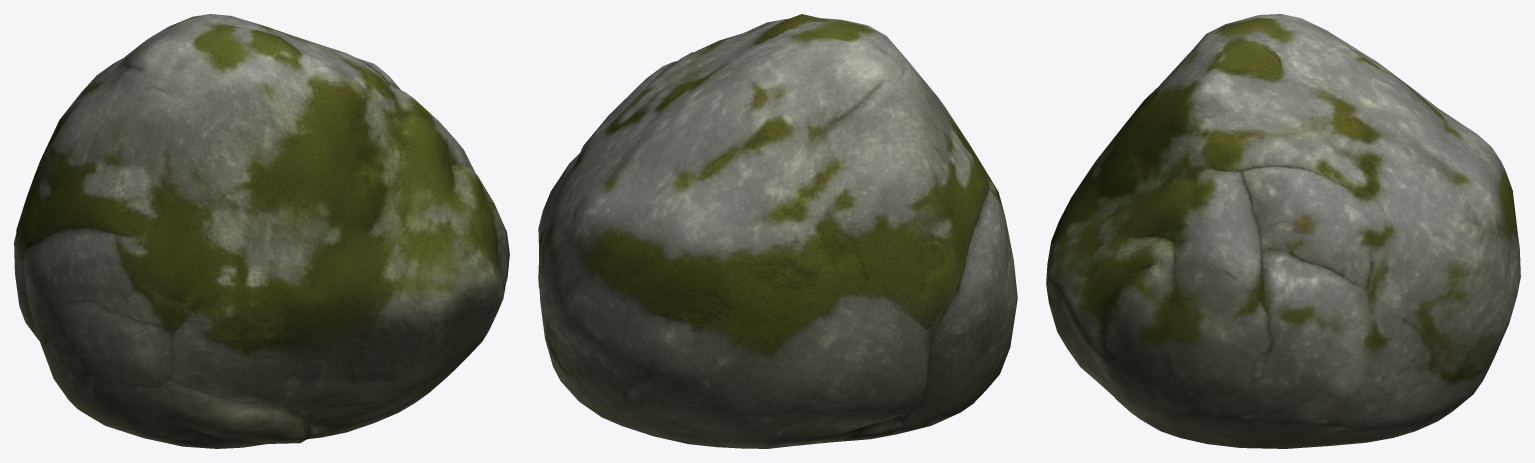
File: boulder.glb
The picture shows the model from 3 angles, left to right: view 1: azimuth 30°, elevation 25°; view 2: azimuth 150°, elevation 25°; view 3: azimuth 270°, elevation 25°; orthographic projection. The views are drawn at different scales.
Visible parts, largest first — view 1: geometry_0; view 2: geometry_0; view 3: geometry_0.
Part boxes in pixels (bbox=[...]): geometry_0: bbox=[14, 14, 509, 448]; geometry_0: bbox=[538, 14, 1017, 448]; geometry_0: bbox=[1046, 14, 1520, 448].
Bounding box in the file's own units: 0.9815 × 0.7634 × 0.9992.
1 material, 1 textured.
